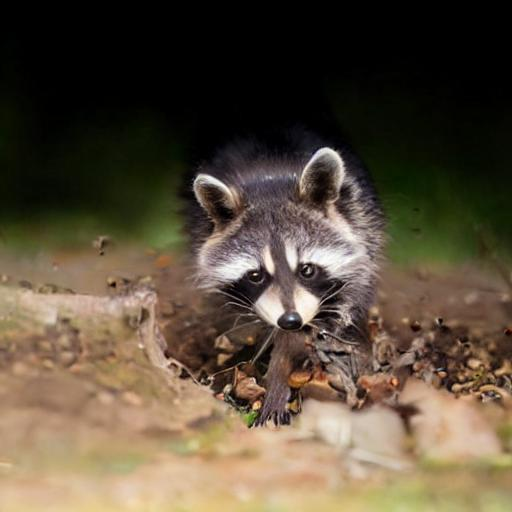raccoon: (177, 134, 395, 343)
